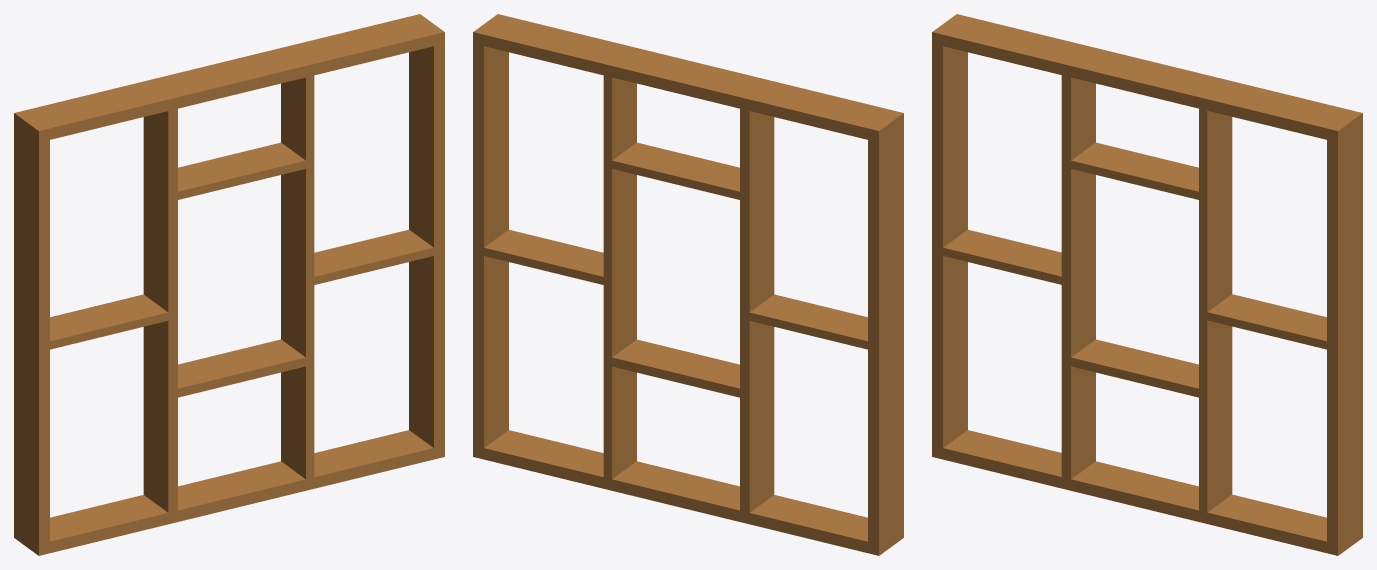
3 views of the same model, side by side, from view 1: azimuth 30°, elevation 25°; view 2: azimuth 150°, elevation 25°; view 3: azimuth 330°, elevation 25° (orthographic).
Visible parts, largest first — view 1: I-1; view 2: I-1; view 3: I-1.
Part boxes in pixels (box(x1,y1,x2,y2)): I-1: box(14, 14, 444, 555); I-1: box(473, 14, 903, 555); I-1: box(932, 14, 1362, 555).
Size of the model in its own units: 612 by 612 by 64.46.
